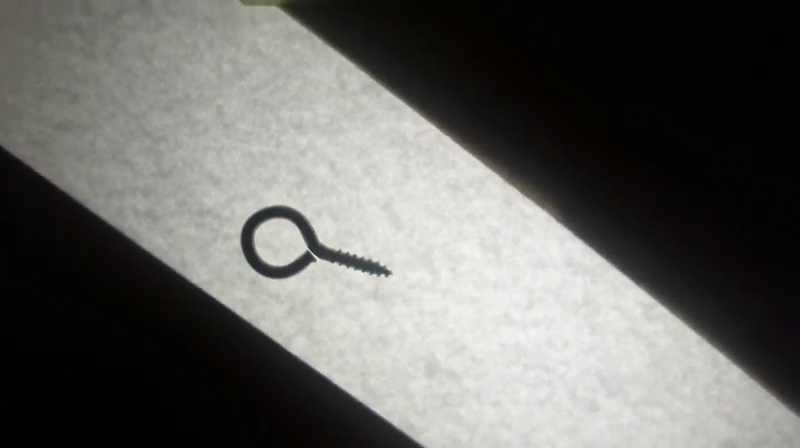O001: (236, 201, 394, 281)
